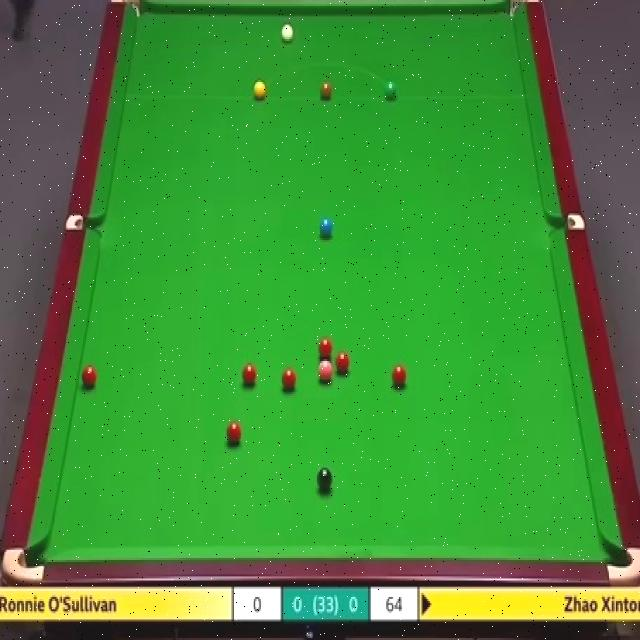black-ball: (317, 467, 334, 490)
blue-ball: (318, 216, 333, 238)
brown-ball: (319, 81, 333, 100)
green-ball: (384, 80, 397, 102)
pink-ball: (317, 360, 335, 384)
red-ball: (225, 420, 243, 445), (280, 367, 297, 392), (391, 366, 408, 390), (242, 363, 257, 387), (335, 351, 350, 375), (82, 366, 98, 388), (318, 336, 333, 358)
white-ball: (280, 21, 295, 42)
yellow-ball: (252, 78, 267, 100)
